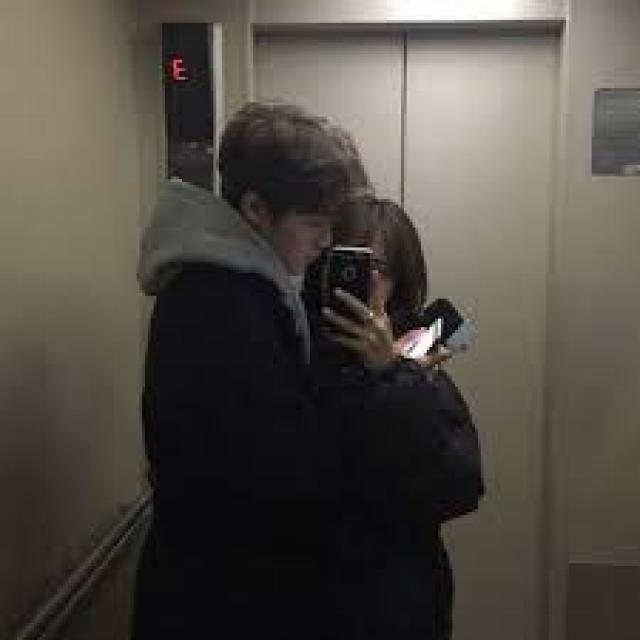Phone: (321, 246, 376, 344)
